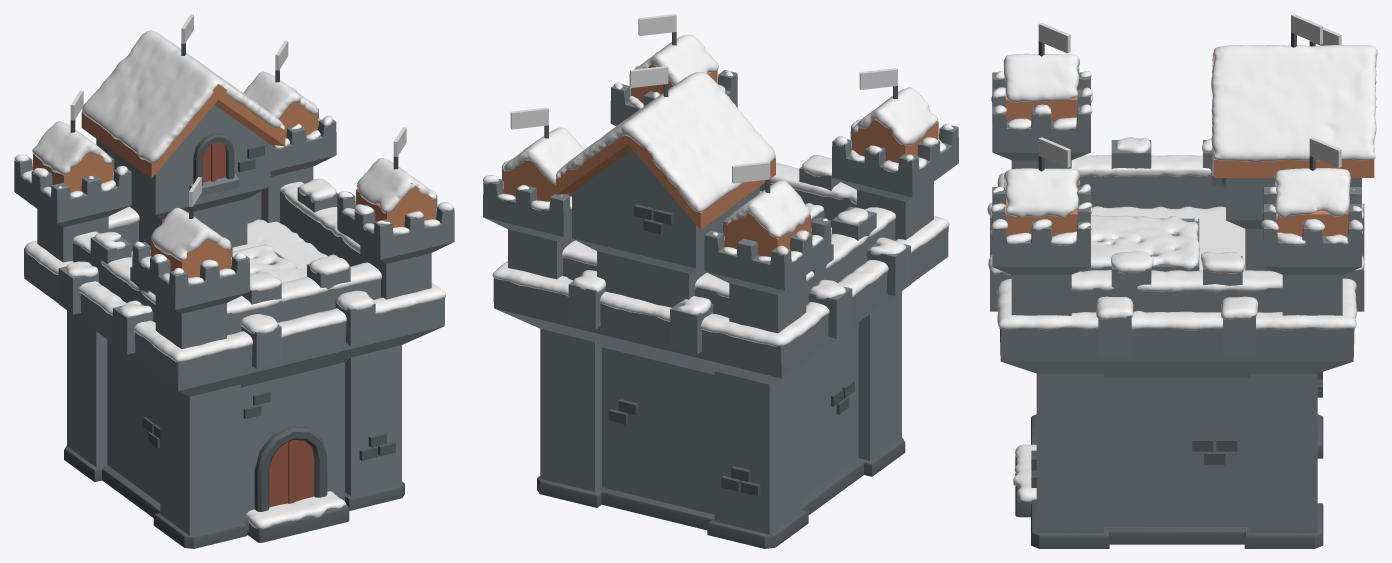
Rendered from castle.fbx.
The picture shows the model from 3 angles, left to right: view 1: azimuth 30°, elevation 25°; view 2: azimuth 150°, elevation 25°; view 3: azimuth 270°, elevation 25°; orthographic projection. The views are drawn at different scales.
Parts seen in each view (by area): view 1: castle, castle.032, SnowBall.011, castle.001, SnowBall.001, castle.005, castle.003, castle.022, castle.018, castle.020, castle.002, castle.015 (+35 smaller); view 2: castle, castle.032, castle.003, SnowBall.001, SnowBall.011, castle.007, castle.001, castle.022, castle.018, castle.024, castle.009, castle.004 (+25 smaller); view 3: castle, SnowBall.001, SnowBall.011, castle.007, castle.005, castle.032, SnowBall.020, castle.024, castle.020, castle.018, SnowBall.003, SnowBall.002 (+29 smaller).
Boxes of the visible parts, <box> form: castle: <box>24,191,444,516</box>; castle.032: <box>81,84,285,249</box>; SnowBall.011: <box>25,182,445,362</box>; castle.001: <box>160,378,240,535</box>; SnowBall.001: <box>82,30,284,162</box>; castle.005: <box>345,345,401,496</box>; castle.003: <box>67,310,107,467</box>; castle.022: <box>14,154,131,227</box>; castle.018: <box>132,242,249,313</box>; castle.020: <box>337,192,454,263</box>; castle.002: <box>155,296,226,349</box>; castle.015: <box>254,426,327,511</box>; castle: <box>493,183,948,514</box>; castle.032: <box>556,72,775,307</box>; castle.003: <box>714,365,801,534</box>; SnowBall.001: <box>556,72,775,211</box>; SnowBall.011: <box>492,162,949,346</box>; castle.007: <box>540,329,601,491</box>; castle.001: <box>858,291,901,460</box>; castle.022: <box>704,217,831,294</box>; castle.018: <box>832,124,958,201</box>; castle.024: <box>483,169,571,240</box>; castle.009: <box>599,458,863,530</box>; castle.004: <box>729,275,806,333</box>; castle: <box>999,172,1354,526</box>; SnowBall.001: <box>1211,45,1377,162</box>; SnowBall.011: <box>996,155,1357,330</box>; castle.007: <box>1250,373,1317,532</box>; castle.005: <box>1036,373,1103,532</box>; castle.032: <box>1214,50,1374,271</box>; SnowBall.020: <box>1090,215,1200,269</box>; castle.024: <box>1263,187,1361,274</box>; castle.020: <box>992,187,1090,274</box>; castle.018: <box>992,72,1090,160</box>; SnowBall.003: <box>1003,168,1080,217</box>; SnowBall.002: <box>1003,53,1079,102</box>.
Bounding box in the file's own units: 182 × 253 × 188.
